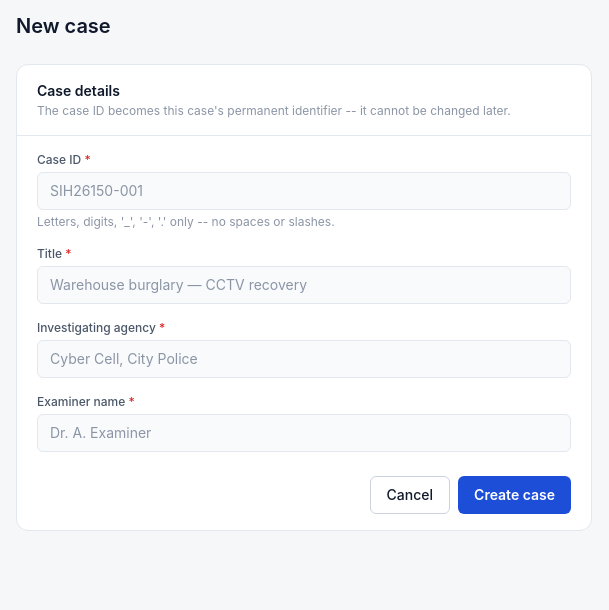
it: NewCasePage › shows the server-supplied error instead of navigating on failure
Type "dup" into the field labelled "Case ID *".
click(304, 191); type("dup")  # box [37,172,571,210]
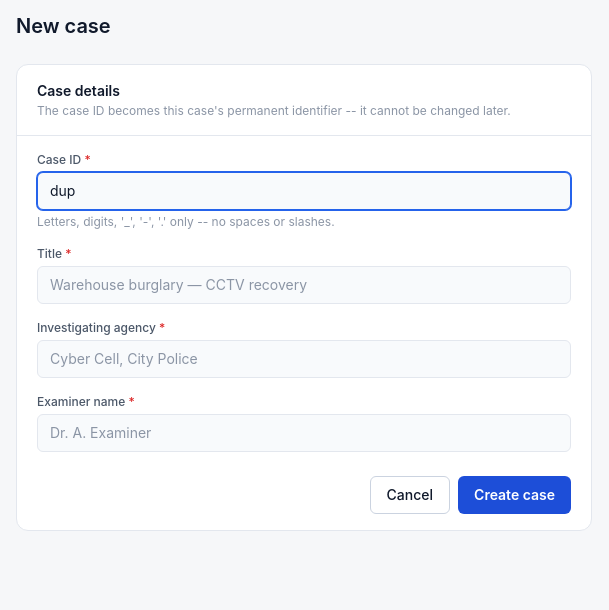
Type "Sample" into the field labelled "Title *".
click(304, 285); type("Sample")  # box [37,266,571,304]
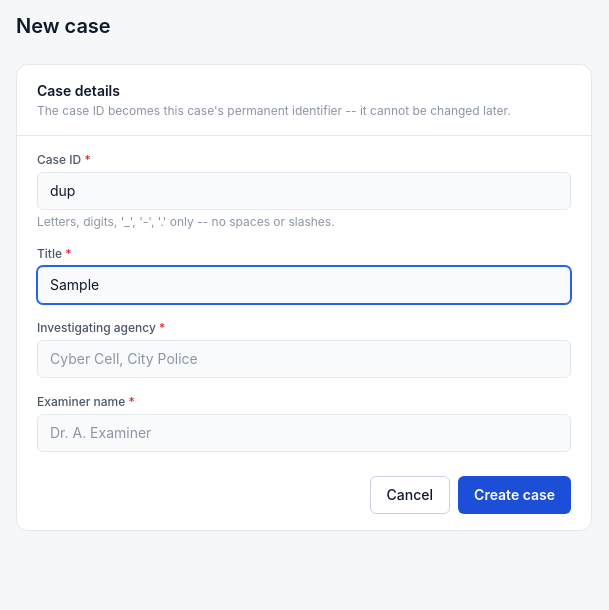
Type "Agency" into the field labelled "Investigating agency *".
click(304, 359); type("Agency")  # box [37,340,571,378]
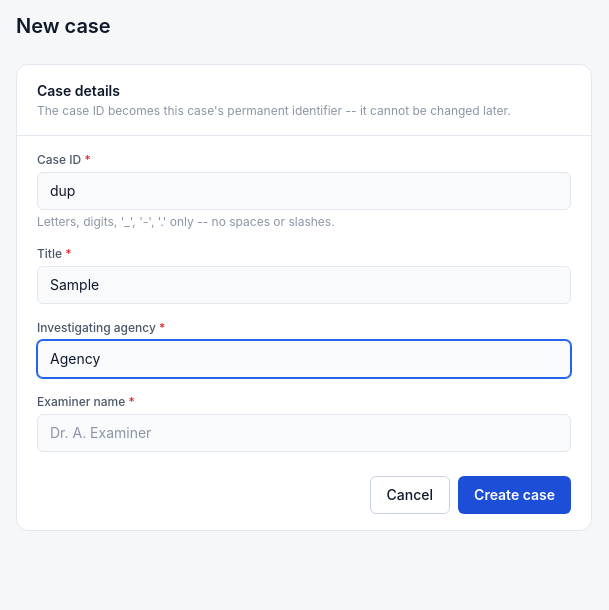
Type "Examiner" into the field labelled "Examiner name *".
click(304, 433); type("Examiner")  # box [37,414,571,452]
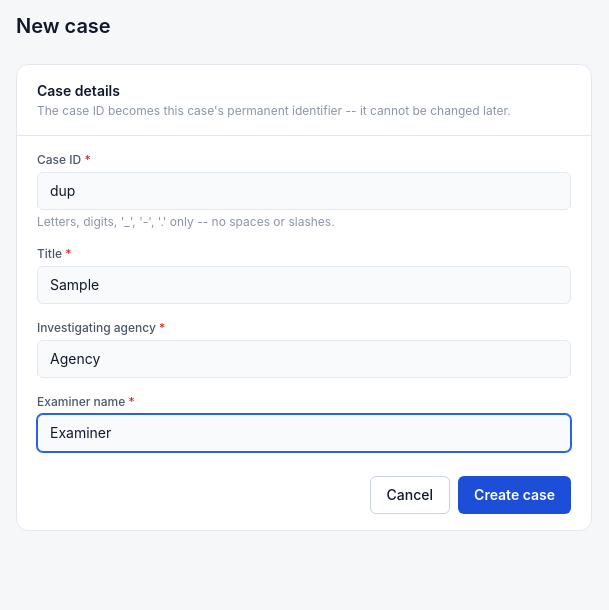
Click the button "Create case".
click(515, 495)  # box [458,476,571,514]
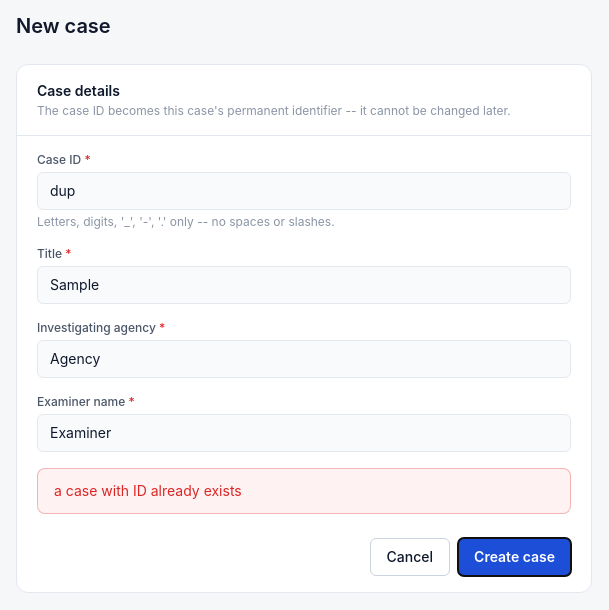
Expected: the text "a case with ID already exists" is shown, [37,468,571,514]
